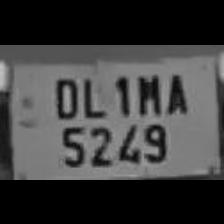1: (109, 69, 133, 115)
2: (84, 121, 112, 167)
4: (112, 117, 140, 163)
5: (53, 121, 85, 167)
9: (139, 117, 169, 161)
A: (162, 66, 192, 116)
D: (48, 71, 80, 119)
L: (78, 68, 106, 119)
M: (132, 65, 162, 113)
